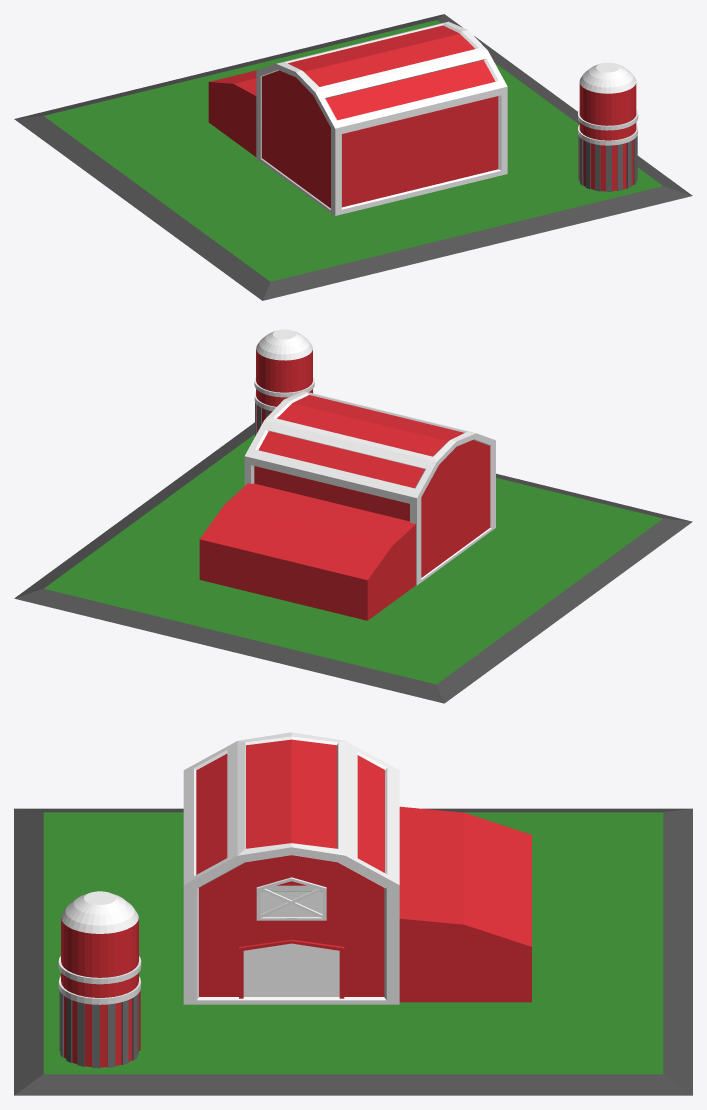
File: Farm.fbx
The picture shows the model from 3 angles, top to bottom: view 1: azimuth 30°, elevation 25°; view 2: azimuth 150°, elevation 25°; view 3: azimuth 270°, elevation 25°; orthographic projection. The views are drawn at different scales.
Parts seen in each view (by area): view 1: Plane, Cube, Rand, Cylinder; view 2: Plane, Cube, Rand, Cylinder; view 3: Plane, Cube, Rand, Cylinder.
Part boxes in pixels (left/top/right/bottom): Plane: left=14, top=14, right=692, bottom=300; Cube: left=208, top=25, right=498, bottom=208; Rand: left=256, top=21, right=507, bottom=215; Cylinder: left=578, top=62, right=638, bottom=191; Plane: left=14, top=422, right=692, bottom=703; Cube: left=199, top=395, right=490, bottom=620; Rand: left=244, top=391, right=495, bottom=585; Cylinder: left=254, top=329, right=314, bottom=436; Plane: left=14, top=808, right=692, bottom=1095; Cube: left=196, top=739, right=531, bottom=1002; Rand: left=183, top=732, right=399, bottom=1004; Cylinder: left=58, top=891, right=141, bottom=1068.
Bounding box in the file's own units: 1136 × 307 × 1136.
